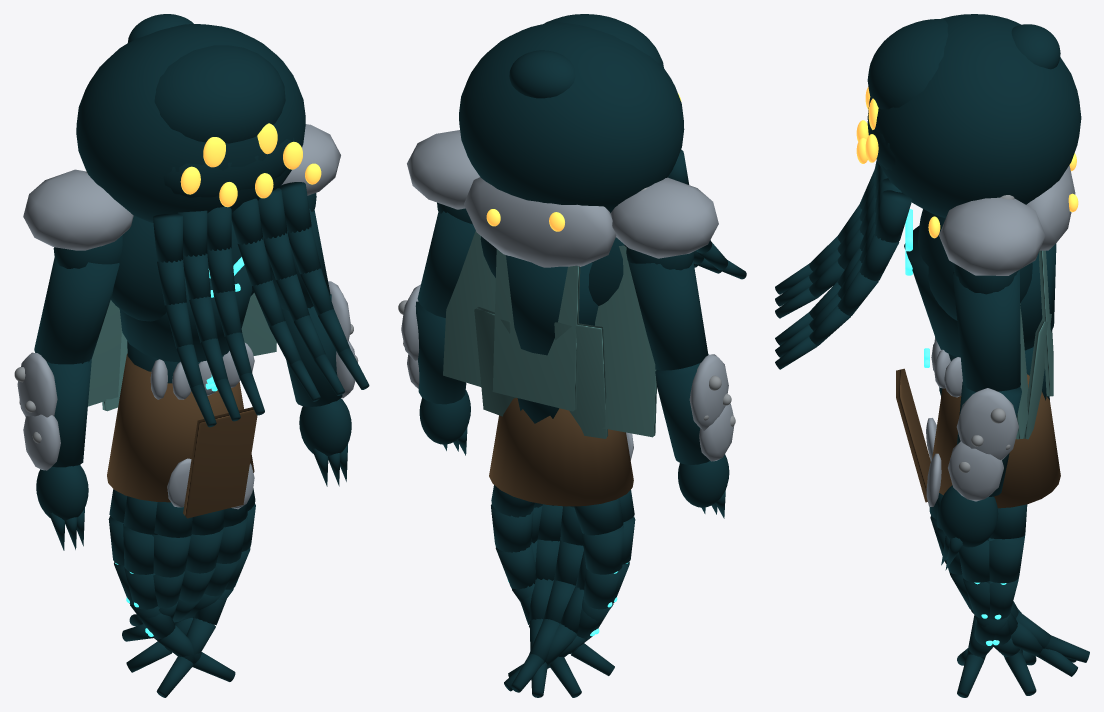
File: 3D模型 monster_abysshorror.glb
3 renders of one model, left to right at view 1: azimuth 30°, elevation 25°; view 2: azimuth 150°, elevation 25°; view 3: azimuth 270°, elevation 25°, orthographic. The views are drawn at different scales.
Visible parts, largest first — view 1: monster_abysshorror_dome, monster_abysshorror_mantle, monster_abysshorror_skirt, monster_abysshorror_paudR, monster_abysshorror_armuR, monster_abysshorror_flap, monster_abysshorror_chest, monster_abysshorror_upper, monster_abysshorror_armlR, monster_abysshorror_brow, monster_abysshorror_cape0, monster_abysshorror_handR (+56 smaller); view 2: monster_abysshorror_dome, monster_abysshorror_skirt, monster_abysshorror_backplate, monster_abysshorror_cape2, monster_abysshorror_cape0, monster_abysshorror_paudR, monster_abysshorror_armuR, monster_abysshorror_upper, monster_abysshorror_cape1, monster_abysshorror_paudL, monster_abysshorror_armuL, monster_abysshorror_cape3 (+31 smaller); view 3: monster_abysshorror_dome, monster_abysshorror_paudL, monster_abysshorror_armuL, monster_abysshorror_skirt, monster_abysshorror_mantle, monster_abysshorror_upper, monster_abysshorror_bracer1L, monster_abysshorror_handL, monster_abysshorror_chest, monster_abysshorror_bracer2L, monster_abysshorror_backplate, monster_abysshorror_flap (+27 smaller).
Part boxes in pixels (left/top/right/bottom): monster_abysshorror_dome: left=76, top=24, right=305, bottom=222; monster_abysshorror_mantle: left=154, top=45, right=285, bottom=143; monster_abysshorror_skirt: left=107, top=353, right=254, bottom=502; monster_abysshorror_paudR: left=23, top=169, right=133, bottom=250; monster_abysshorror_armuR: left=34, top=257, right=119, bottom=364; monster_abysshorror_flap: left=183, top=407, right=257, bottom=518; monster_abysshorror_chest: left=111, top=216, right=271, bottom=321; monster_abysshorror_upper: left=119, top=265, right=252, bottom=362; monster_abysshorror_armlR: left=46, top=358, right=91, bottom=467; monster_abysshorror_brow: left=163, top=137, right=294, bottom=197; monster_abysshorror_cape0: left=88, top=300, right=121, bottom=406; monster_abysshorror_handR: left=36, top=465, right=88, bottom=520; monster_abysshorror_dome: left=459, top=22, right=684, bottom=212; monster_abysshorror_skirt: left=489, top=397, right=633, bottom=506; monster_abysshorror_backplate: left=464, top=177, right=616, bottom=267; monster_abysshorror_cape2: left=492, top=249, right=580, bottom=411; monster_abysshorror_cape0: left=595, top=245, right=656, bottom=437; monster_abysshorror_paudR: left=610, top=177, right=718, bottom=258; monster_abysshorror_armuR: left=628, top=261, right=708, bottom=370; monster_abysshorror_upper: left=506, top=255, right=598, bottom=355; monster_abysshorror_cape1: left=443, top=230, right=495, bottom=386; monster_abysshorror_paudL: left=407, top=130, right=479, bottom=209; monster_abysshorror_armuL: left=417, top=211, right=475, bottom=317; monster_abysshorror_cape3: left=554, top=322, right=608, bottom=438; monster_abysshorror_dome: left=867, top=14, right=1081, bottom=218; monster_abysshorror_paudL: left=939, top=197, right=1045, bottom=275; monster_abysshorror_armuL: left=953, top=269, right=1020, bottom=391; monster_abysshorror_skirt: left=932, top=374, right=1060, bottom=508; monster_abysshorror_mantle: left=867, top=19, right=948, bottom=109; monster_abysshorror_upper: left=904, top=226, right=1056, bottom=357; monster_abysshorror_bracer1L: left=956, top=388, right=1018, bottom=459; monster_abysshorror_handL: left=939, top=485, right=998, bottom=547; monster_abysshorror_chest: left=918, top=209, right=1032, bottom=320; monster_abysshorror_bracer2L: left=948, top=441, right=1003, bottom=501; monster_abysshorror_backplate: left=1026, top=165, right=1075, bottom=250; monster_abysshorror_flap: left=896, top=368, right=930, bottom=502.
Size of the model in its own units: 1.28 by 2.44 by 1.06.
